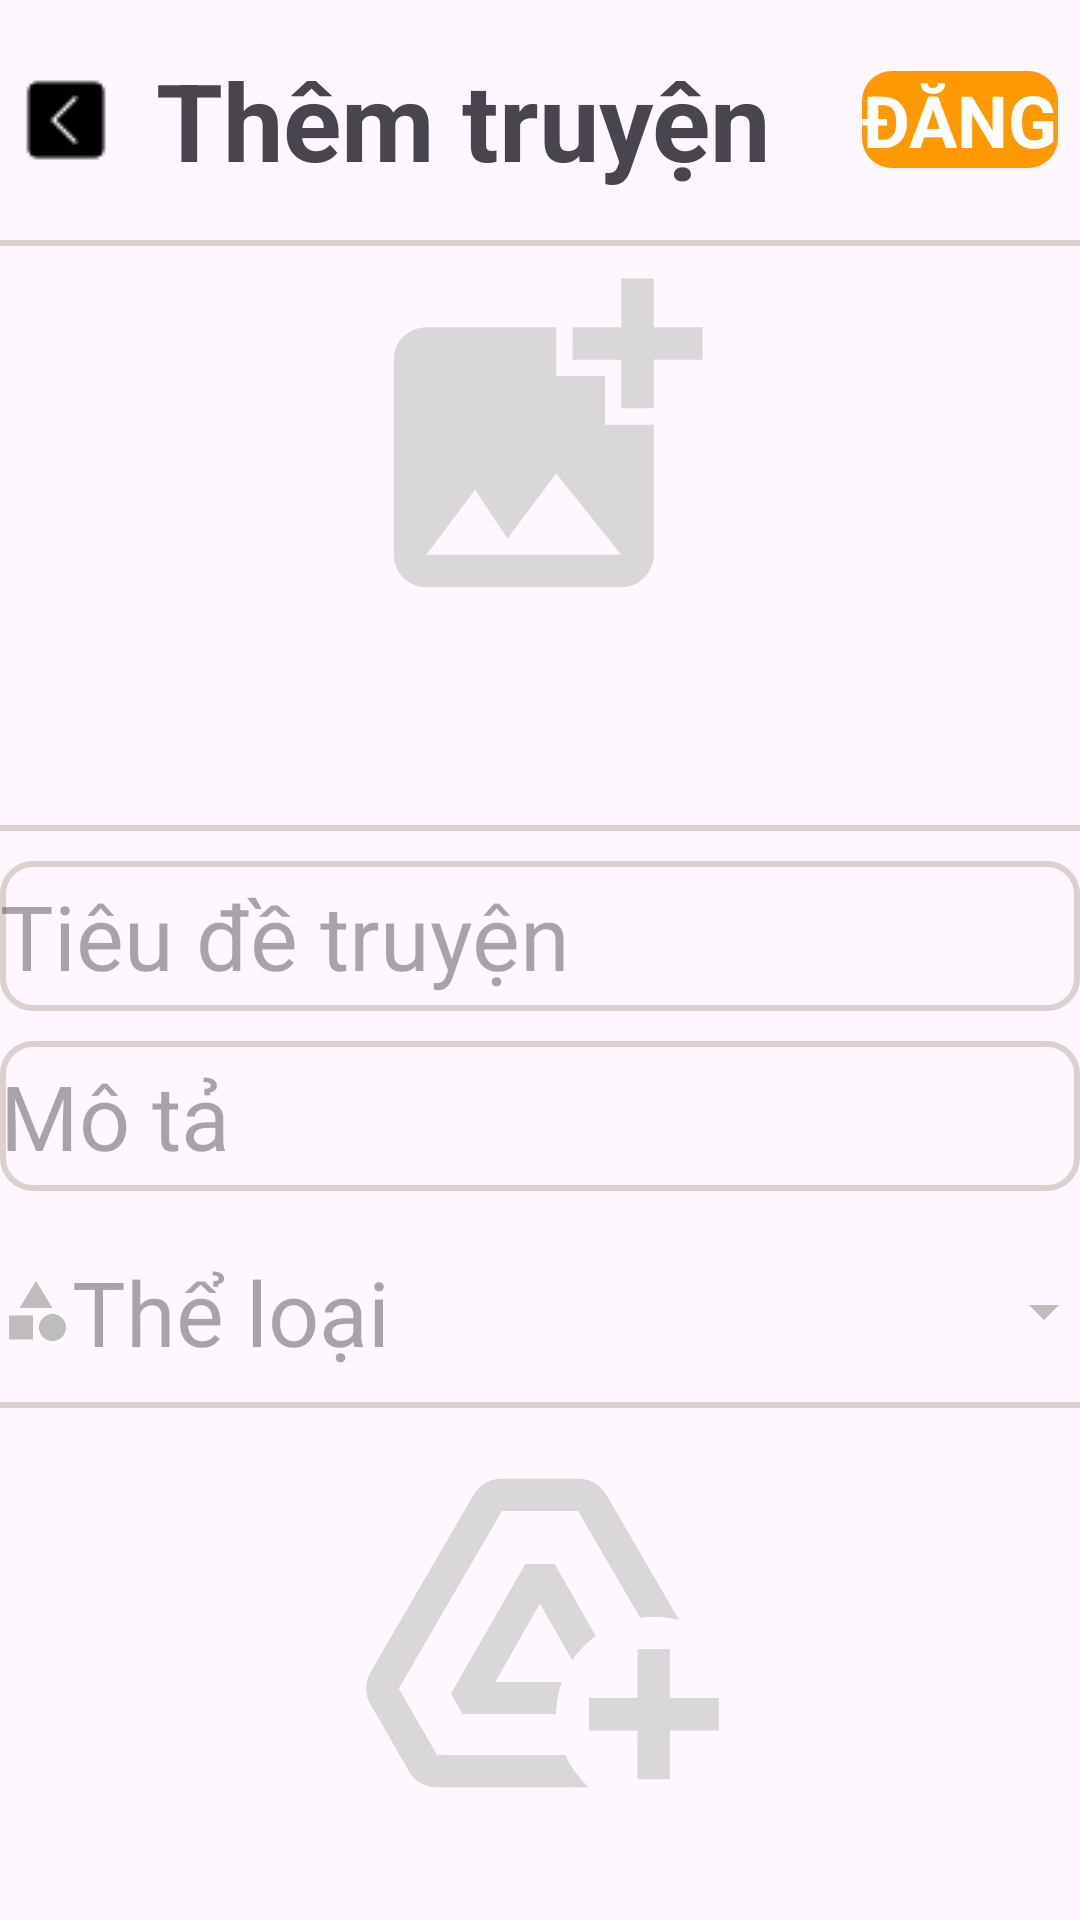

Where to tap for icons on this 1080w x 1920h app screen, as (x=x, y=y):
add photo alternate: (x=548, y=433)
prevblack: (x=66, y=120)
